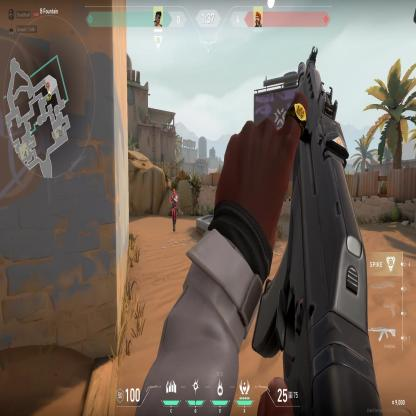enemy: (169, 188, 178, 232)
